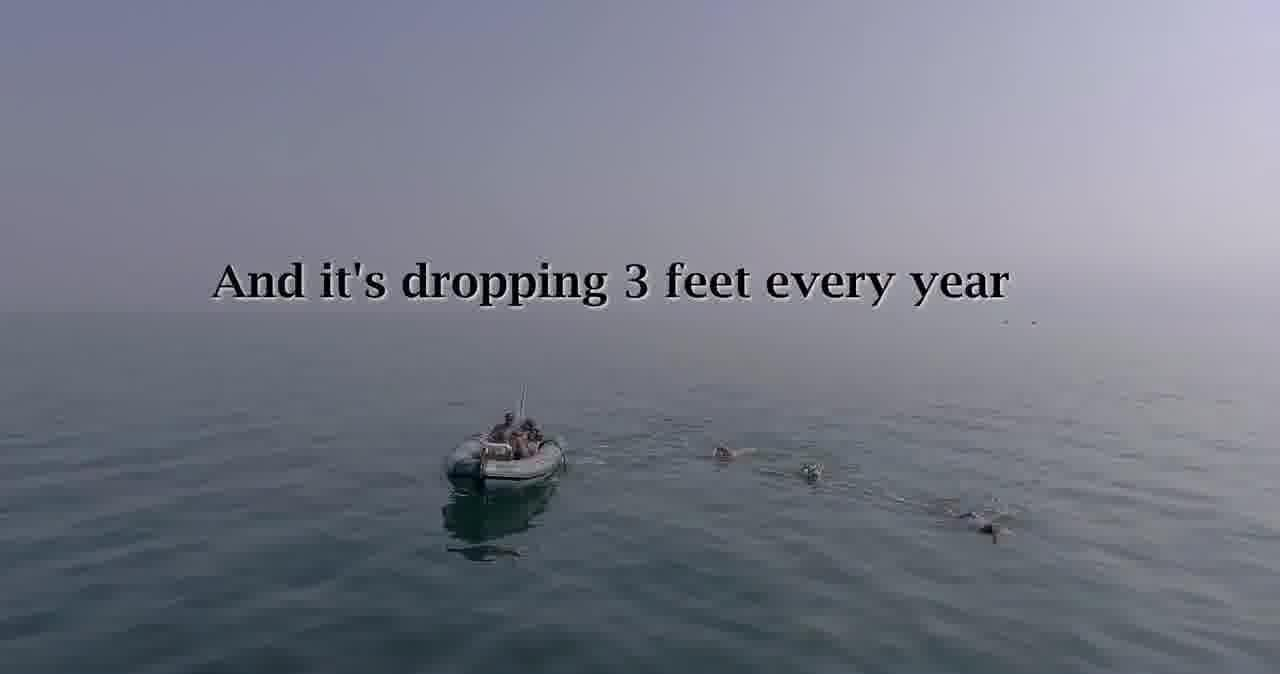human: (944, 501, 1015, 545), (788, 457, 833, 509), (698, 433, 742, 483)
